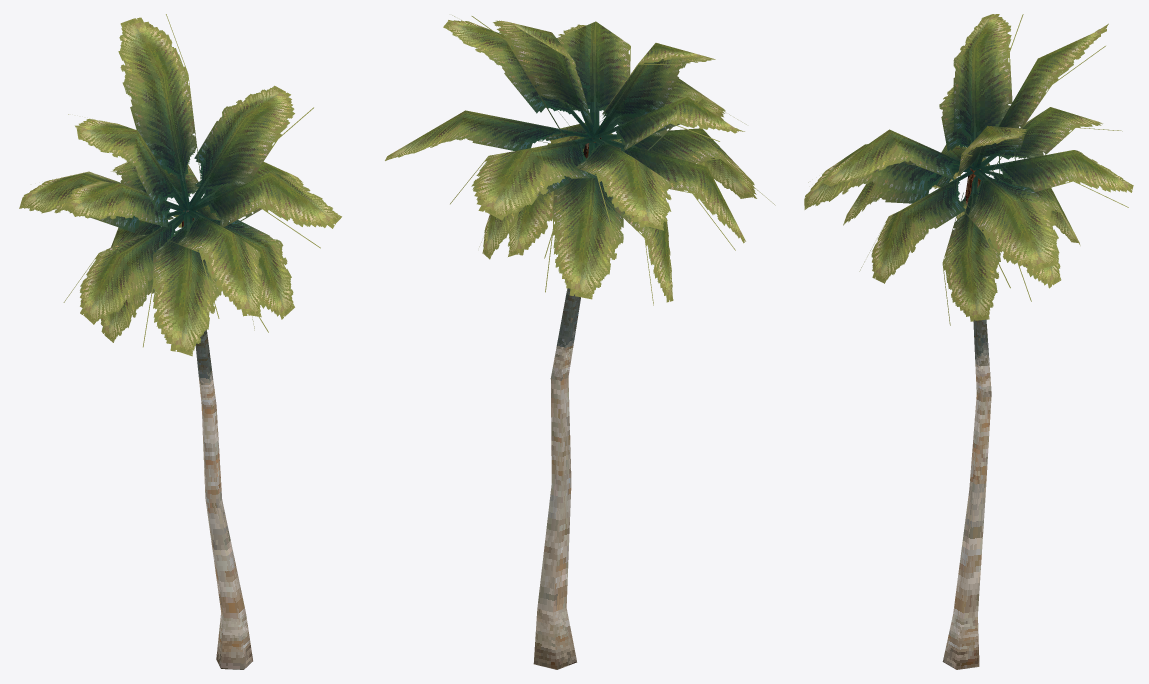
File: stage-east-p2-82.glb
3 views of the same model, side by side, from view 1: azimuth 30°, elevation 25°; view 2: azimuth 150°, elevation 25°; view 3: azimuth 270°, elevation 25° (orthographic). The views are drawn at different scales.
Size of the model in its own units: 9.99 by 20.56 by 9.94.
1 material, 1 textured.
